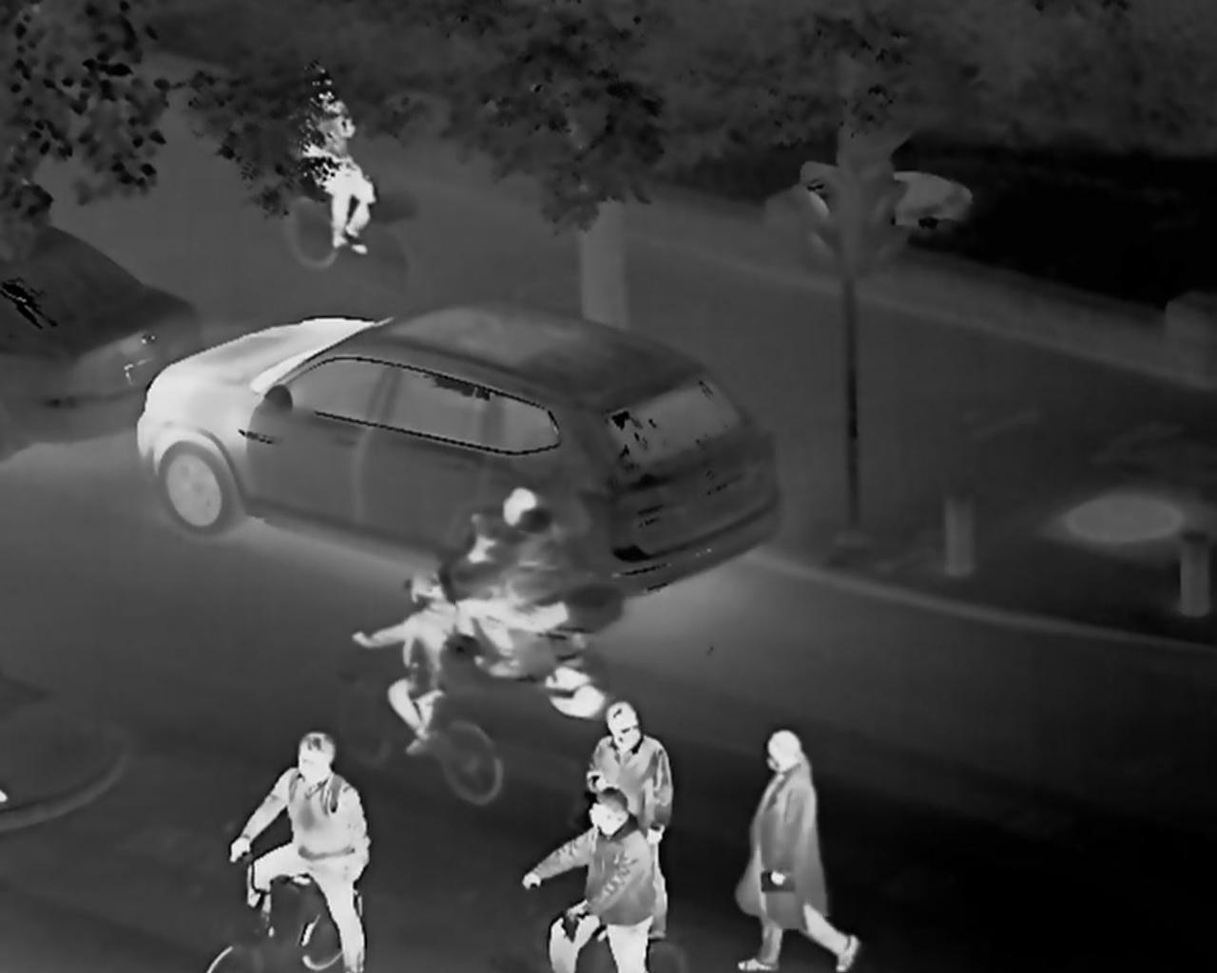person: (741, 730, 866, 973), (271, 723, 418, 920), (301, 73, 401, 281), (551, 799, 668, 973), (490, 483, 601, 658), (390, 570, 481, 750), (596, 704, 682, 801)
